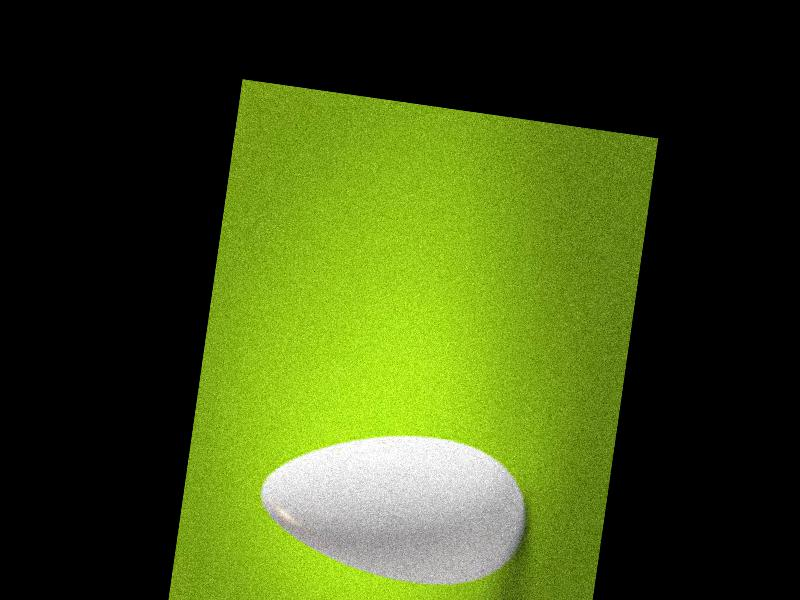Eggs: (247, 414, 533, 596)
